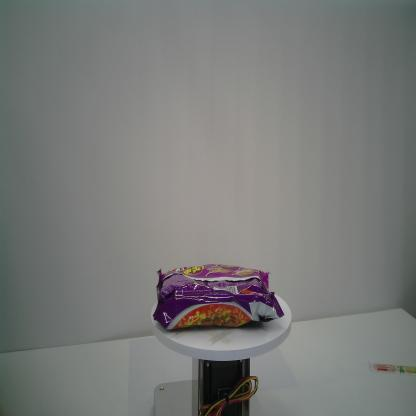Instant Noodles: (151, 262, 285, 333)
